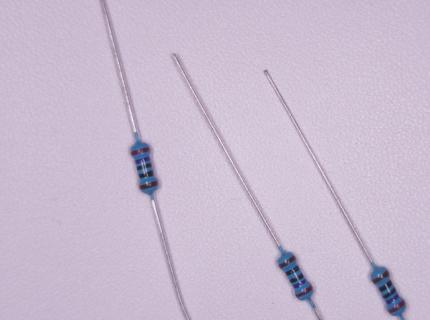Black band: (383, 287, 396, 299), (286, 265, 300, 276), (289, 273, 304, 283), (379, 280, 392, 291), (137, 163, 151, 171), (139, 170, 153, 178)
Brown band: (372, 269, 389, 284), (279, 255, 295, 269), (140, 180, 158, 190)
Red band: (297, 284, 313, 298), (390, 299, 405, 313), (131, 147, 150, 157)
Violet band: (387, 293, 399, 304), (293, 279, 307, 288), (136, 156, 150, 164)
